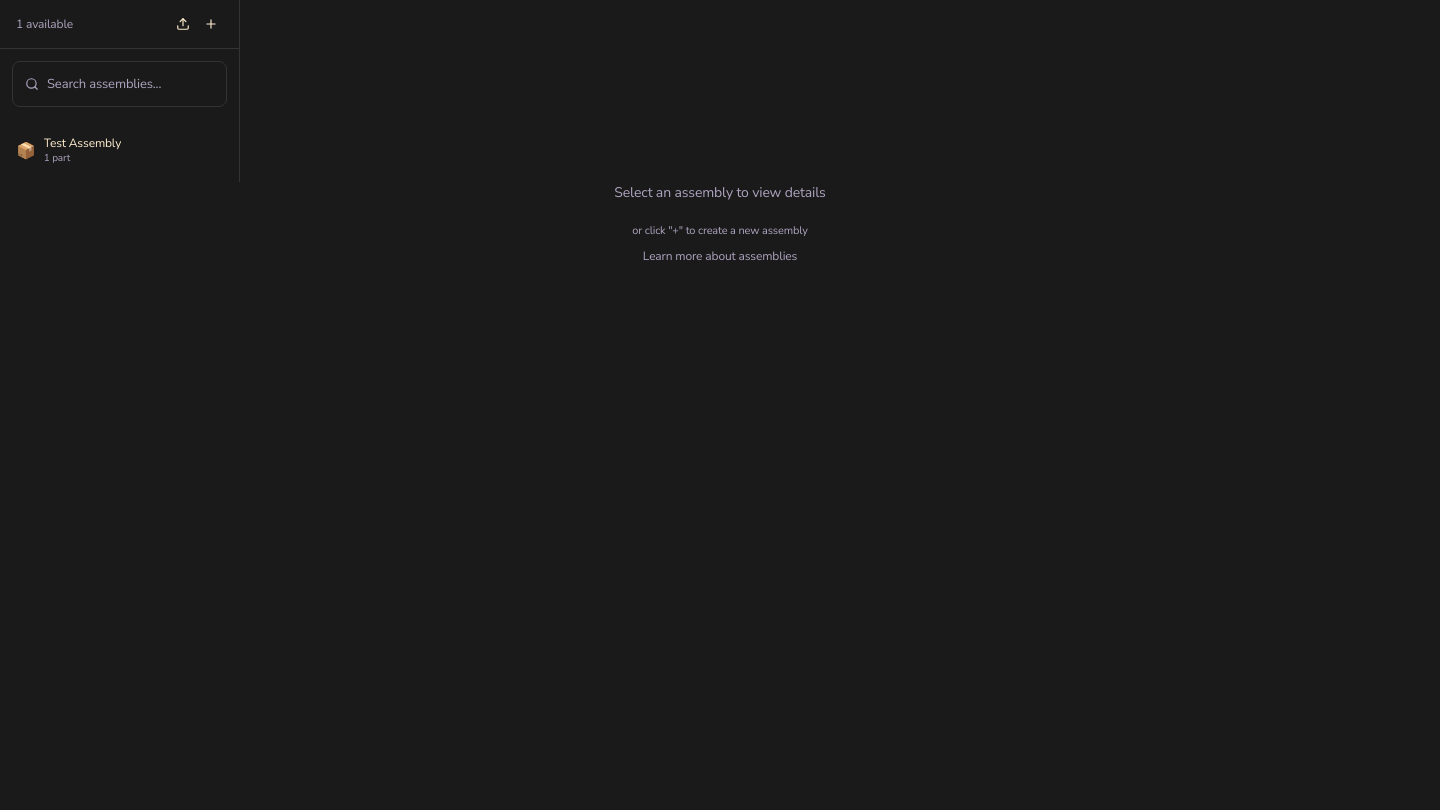
it: AssembliesTab › edit mode › enters edit mode when clicking Edit
Click the text "Test Assembly".
click(82, 143)  # box [44, 135, 121, 151]
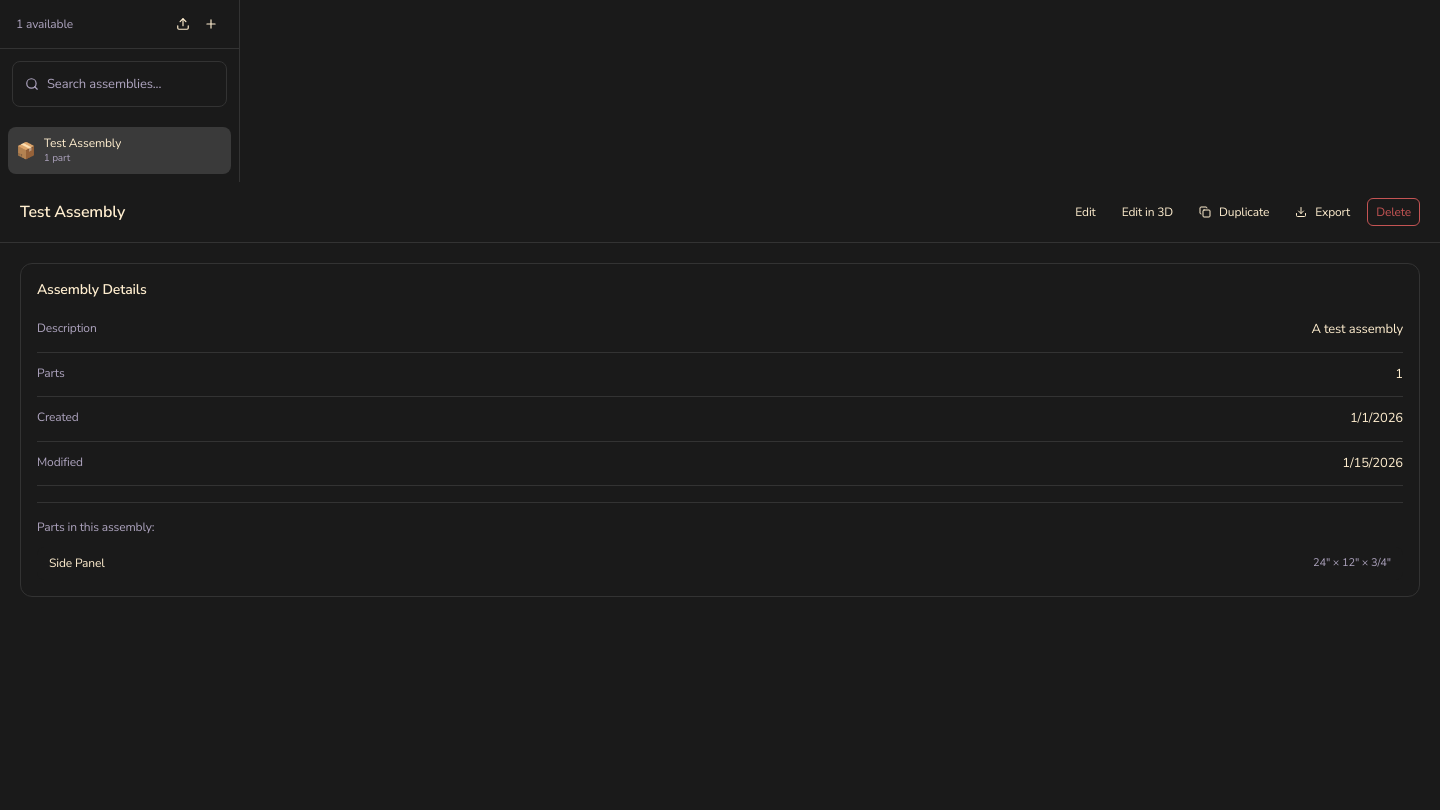
Click the button "Edit".
click(1086, 212)  # box [1066, 198, 1105, 226]
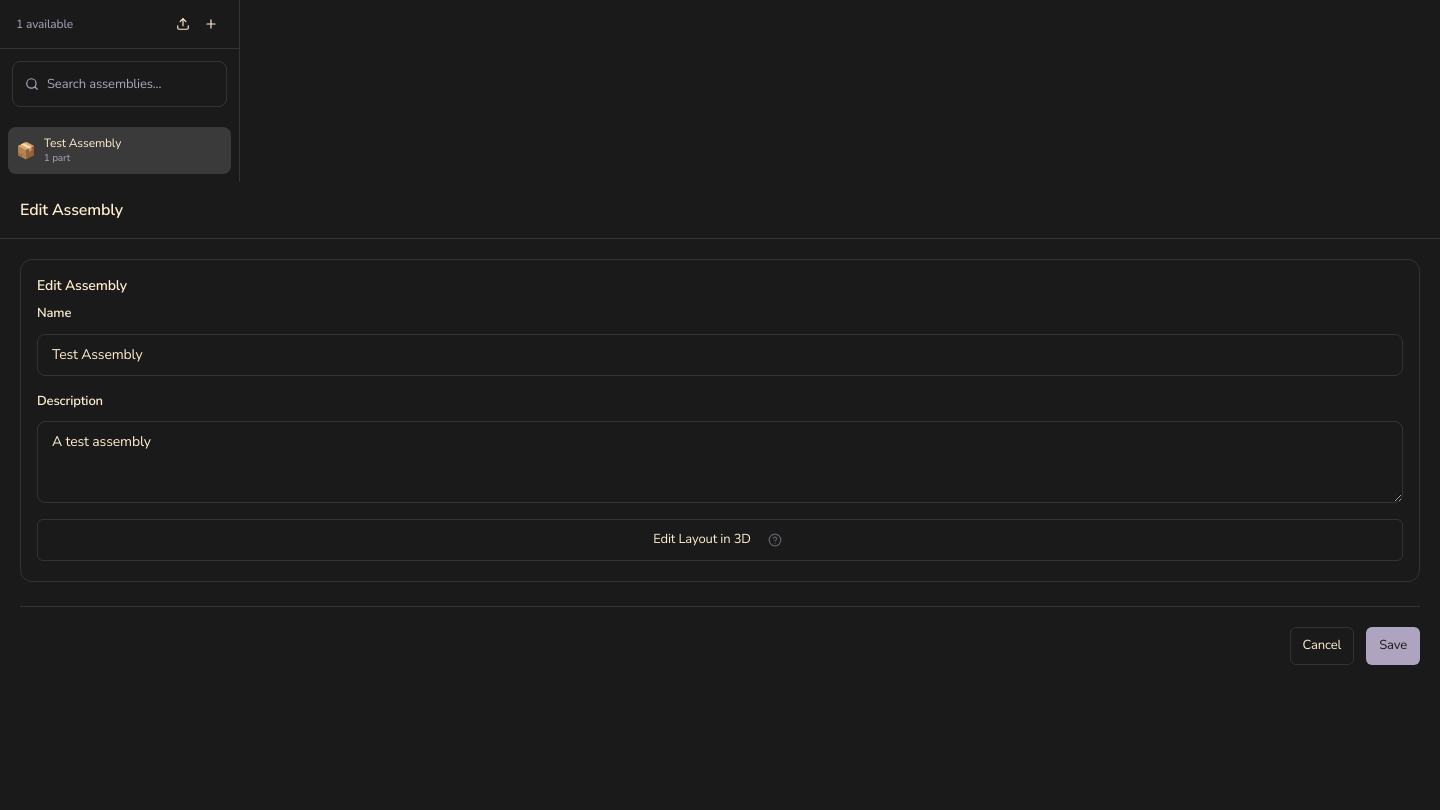
Expected: the 1st heading "Edit Assembly" is shown, [20, 198, 123, 222]
